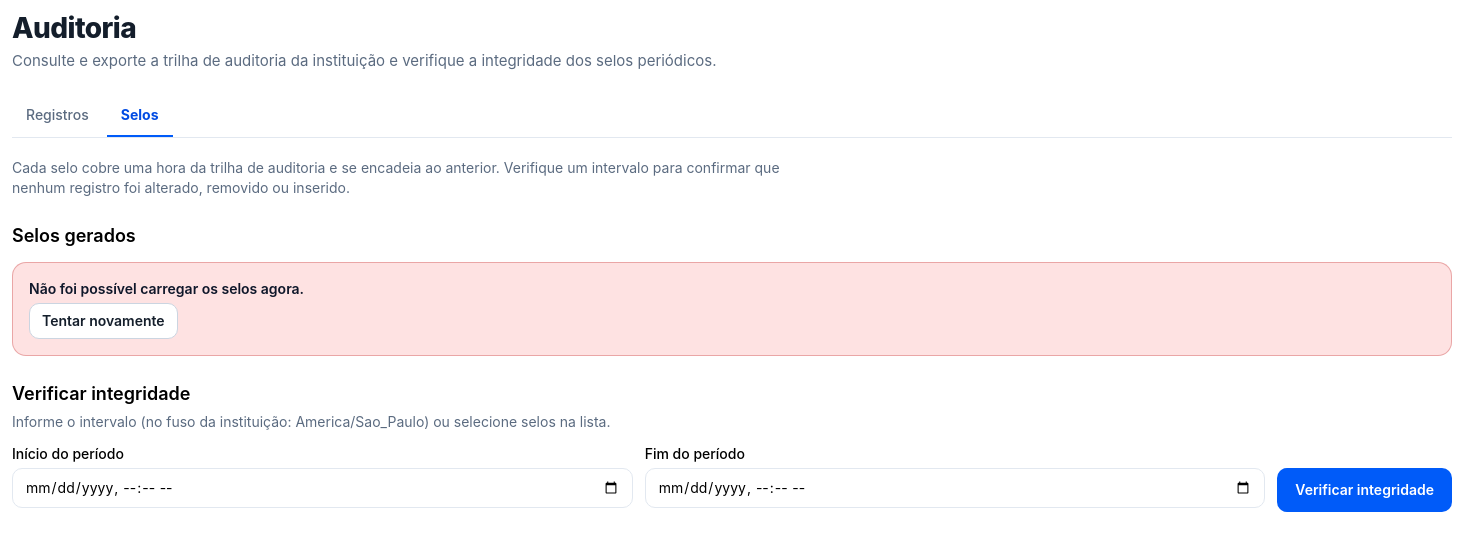
Test: SealList (AUD-04) › erro de carregamento com "Tentar novamente"
Check: the text "Não foi possível carregar os selos agora." is shown, box [29,280,304,297]
Click the button "Tentar novamente" at (103, 321), box [29,303,178,339]
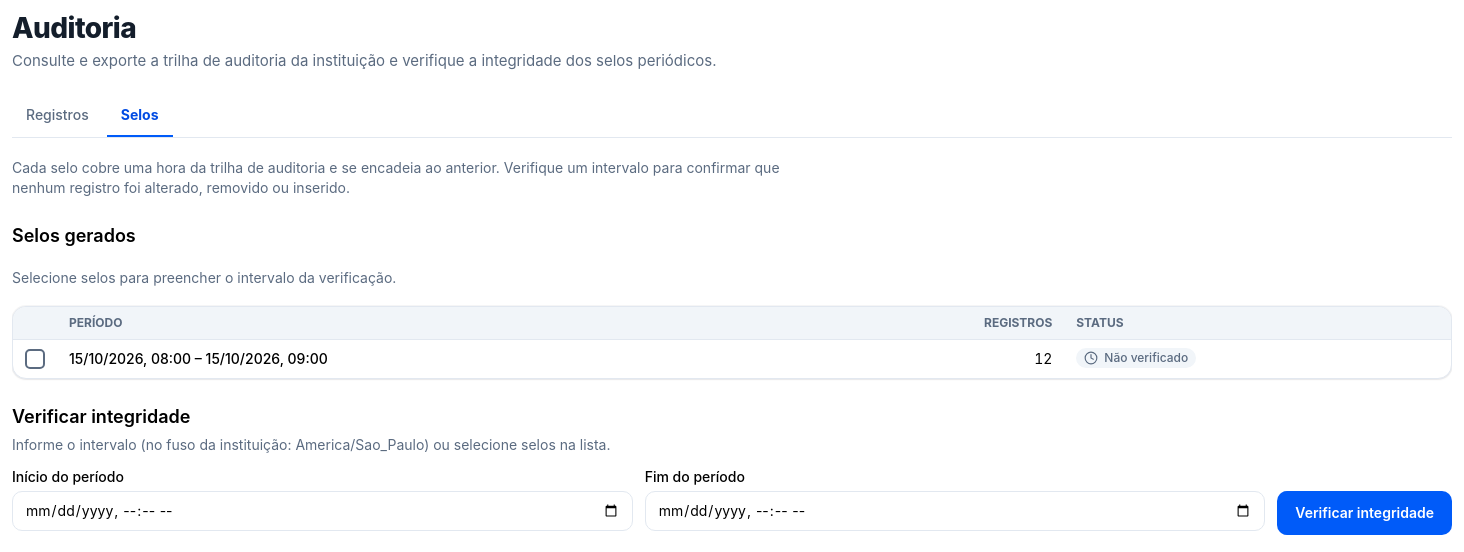
Check: the table named "Selos de integridade da trilha de auditoria" is shown, box [13,307,1451,378]
